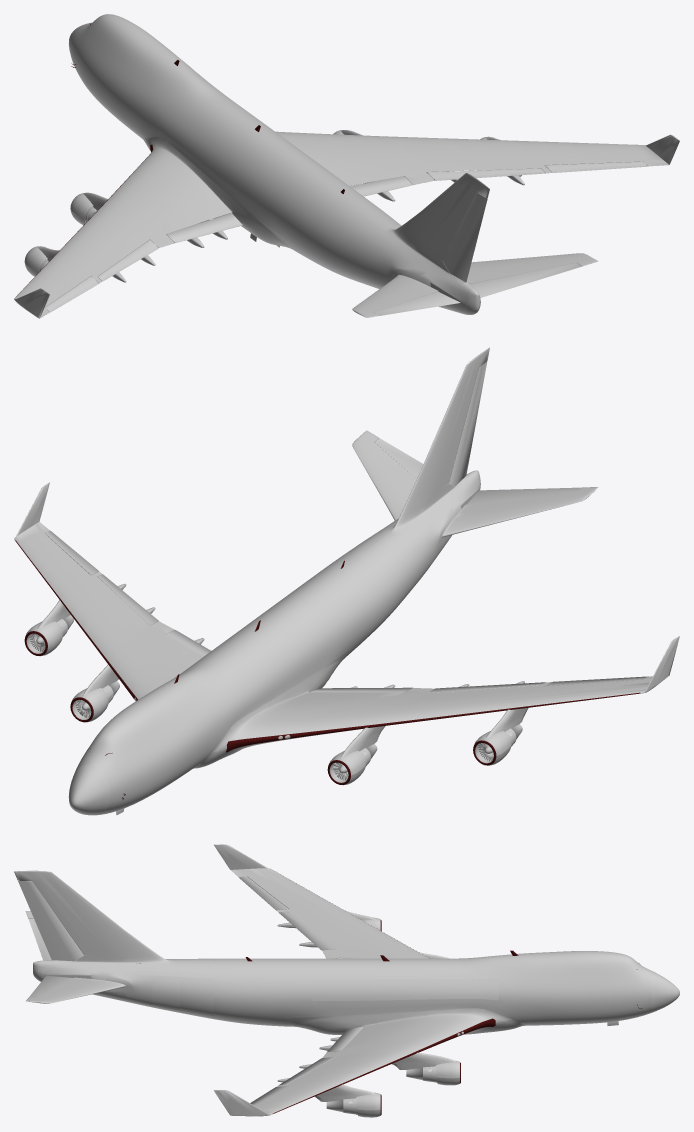
The model's file is boeing747.obj.
3 renders of one model, top to bottom at view 1: azimuth 30°, elevation 25°; view 2: azimuth 150°, elevation 25°; view 3: azimuth 270°, elevation 25°, orthographic. The views are drawn at different scales.
Visible parts, largest first — view 1: Boeing747; view 2: Boeing747; view 3: Boeing747.
Part boxes in pixels (box(x1,y1,x2,y2)): Boeing747: box(14, 14, 679, 318); Boeing747: box(14, 347, 679, 815); Boeing747: box(14, 844, 679, 1117).
Size of the model in its own units: 17.84 by 5.72 by 20.41.
